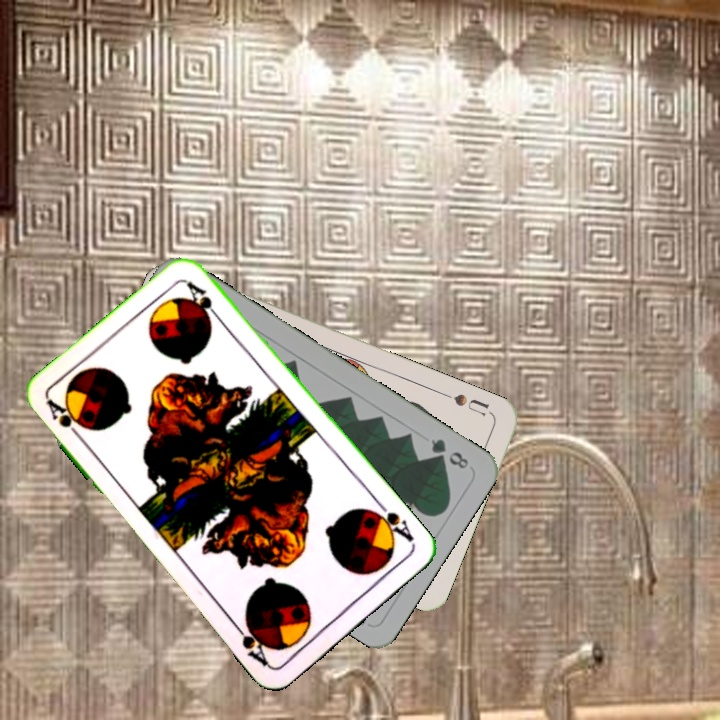G8: (426, 434, 472, 472)
SA: (366, 498, 417, 548), (42, 395, 89, 445)
SU: (438, 388, 492, 419)
